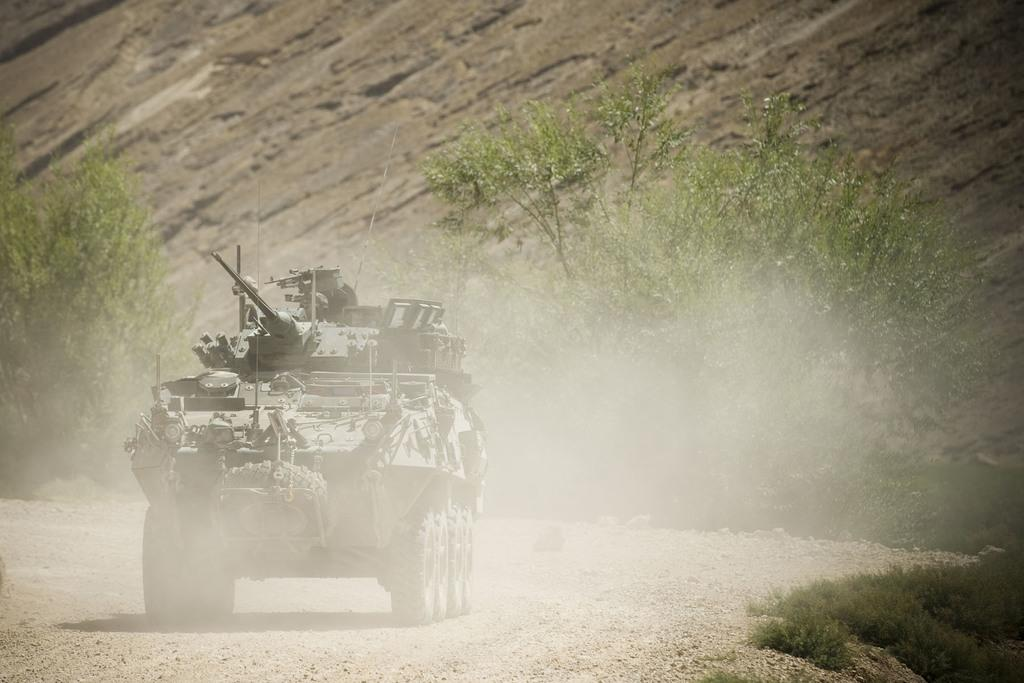weapon: (118, 233, 480, 632)
